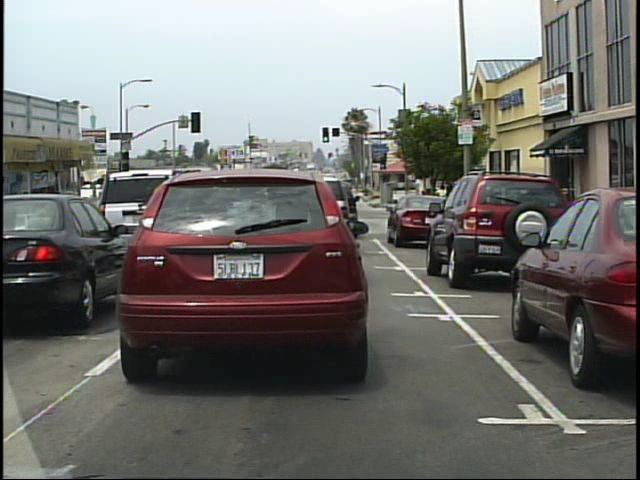person: (425, 189, 437, 223), (420, 190, 429, 222)
